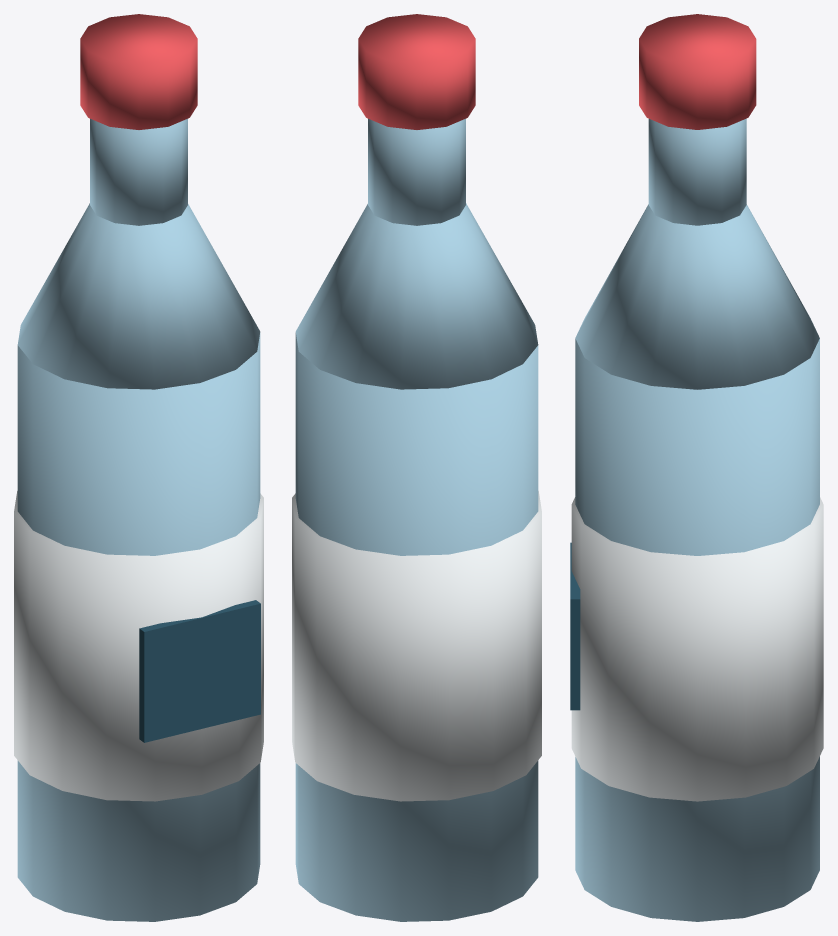
The model's file is alcohol.glb.
The picture shows the model from 3 angles, left to right: view 1: azimuth 30°, elevation 25°; view 2: azimuth 150°, elevation 25°; view 3: azimuth 270°, elevation 25°; orthographic projection.
Visible parts, largest first — view 1: alcohol; view 2: alcohol; view 3: alcohol.
Boxes of the visible parts, left/top/right/bottom form: alcohol: left=14, top=14, right=263, bottom=921; alcohol: left=292, top=14, right=541, bottom=921; alcohol: left=570, top=14, right=823, bottom=921.
Bounding box in the file's own units: 0.103 × 0.375 × 0.1035.
